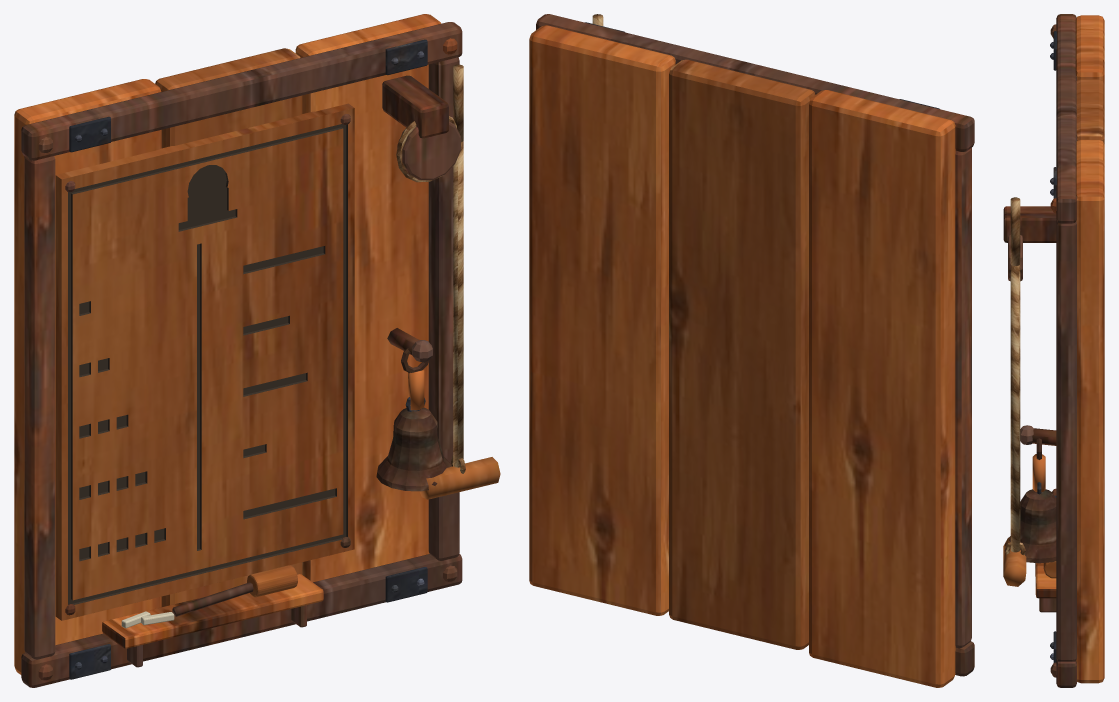
File: lw_signal_code_board.glb
The picture shows the model from 3 angles, left to right: view 1: azimuth 30°, elevation 25°; view 2: azimuth 150°, elevation 25°; view 3: azimuth 270°, elevation 25°; orthographic projection. The views are drawn at different scales.
Parts seen in each view (by area): view 1: model; view 2: model; view 3: model.
Part boxes in pixels (bbox=[...]): model: bbox=[14, 14, 500, 687]; model: bbox=[529, 14, 974, 687]; model: bbox=[1003, 14, 1104, 687].
Size of the model in its own units: 0.75 by 0.9192 by 0.1705.
13 materials, 11 textured.
